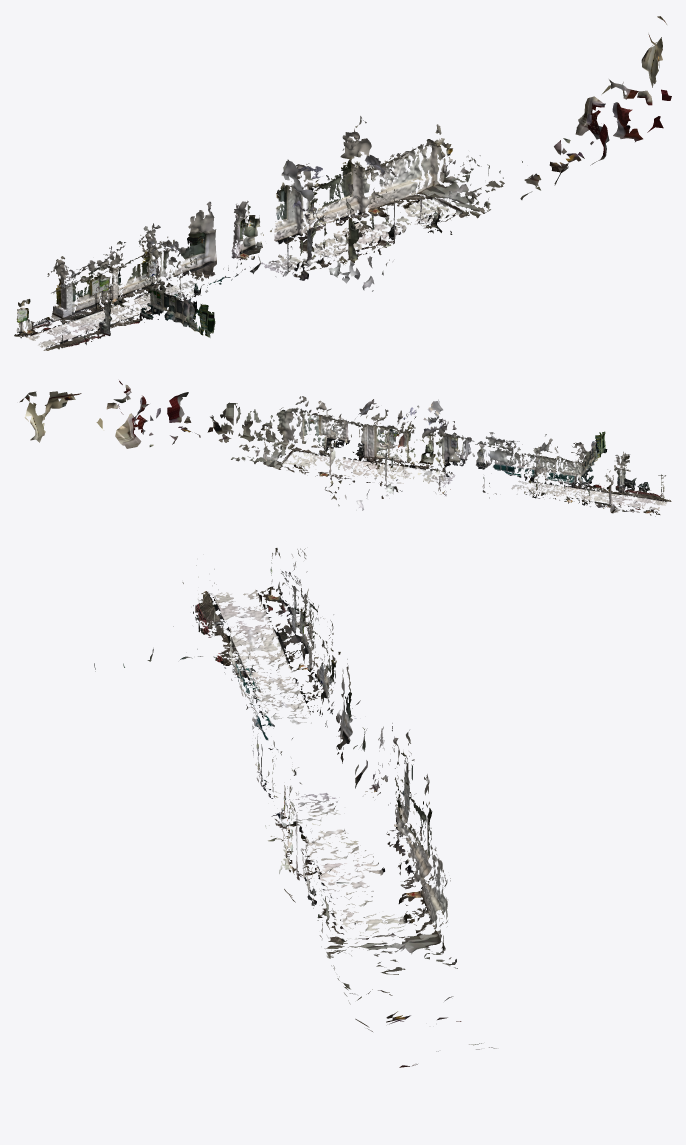
Rendered from 134601-cobarsiayanilorongsupermarket-tex.glb.
3 renders of one model, top to bottom at view 1: azimuth 30°, elevation 25°; view 2: azimuth 150°, elevation 25°; view 3: azimuth 270°, elevation 25°, orthographic. The views are drawn at different scales.
Visible parts, largest first — view 1: Node; view 2: Node; view 3: Node.
Part boxes in pixels (x1,y1,x2,y2): Node: (14,16,671,350); Node: (19,380,671,516); Node: (94,548,496,1067).
Bounding box in the file's own units: 44.2 × 9.06 × 17.28.
25 materials, 25 textured.
